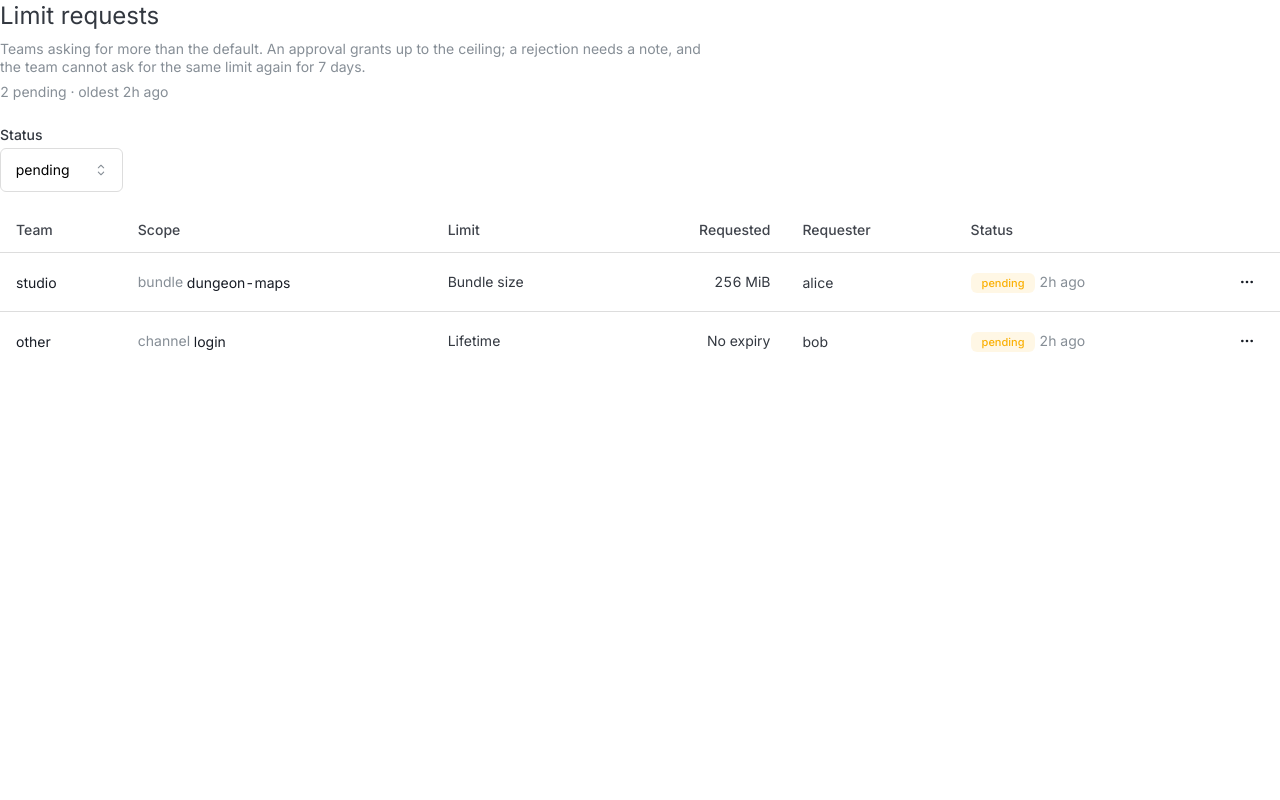
Test: LimitRequestsPage › approves with an adjusted value in another unit
Click the button named "Actions for Bundle size of dungeon-maps": (1247, 282) [1230, 265, 1264, 299]
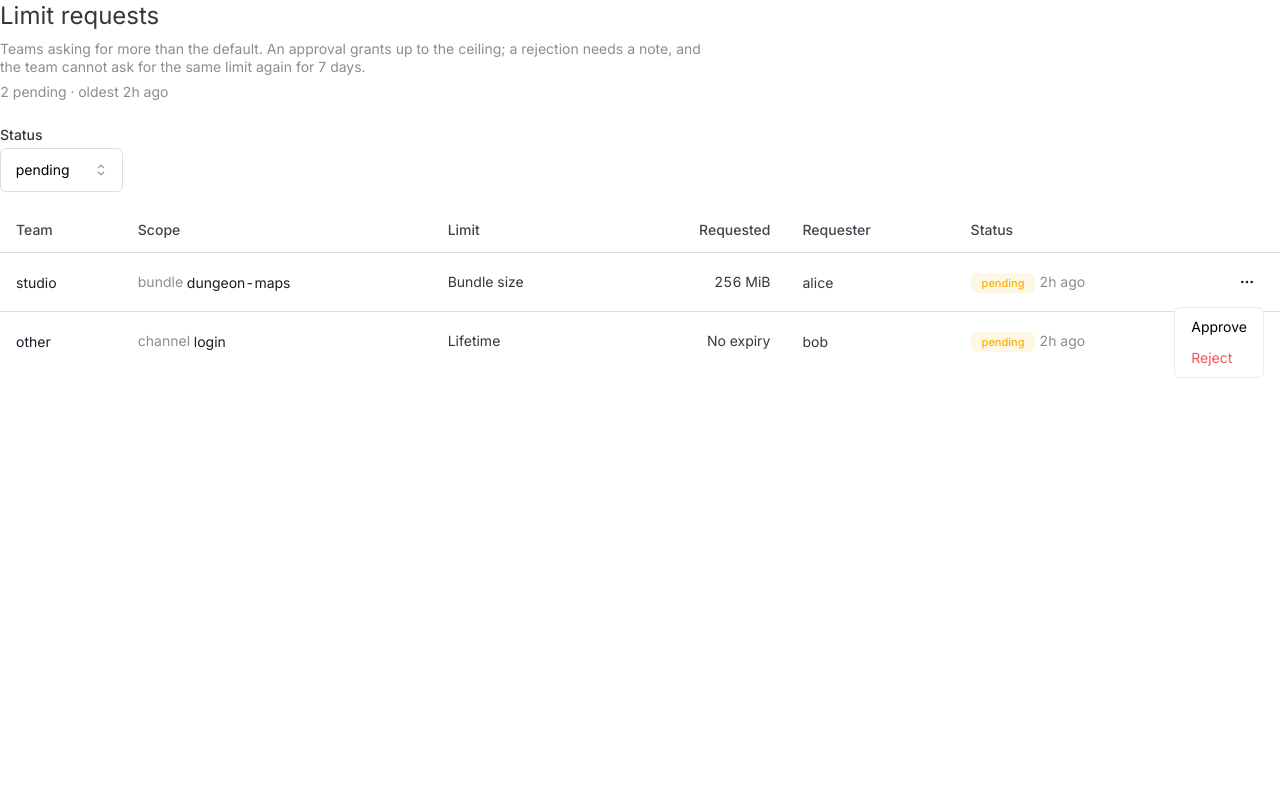
Click the menu item "Approve": (1219, 327) [1179, 312, 1259, 342]
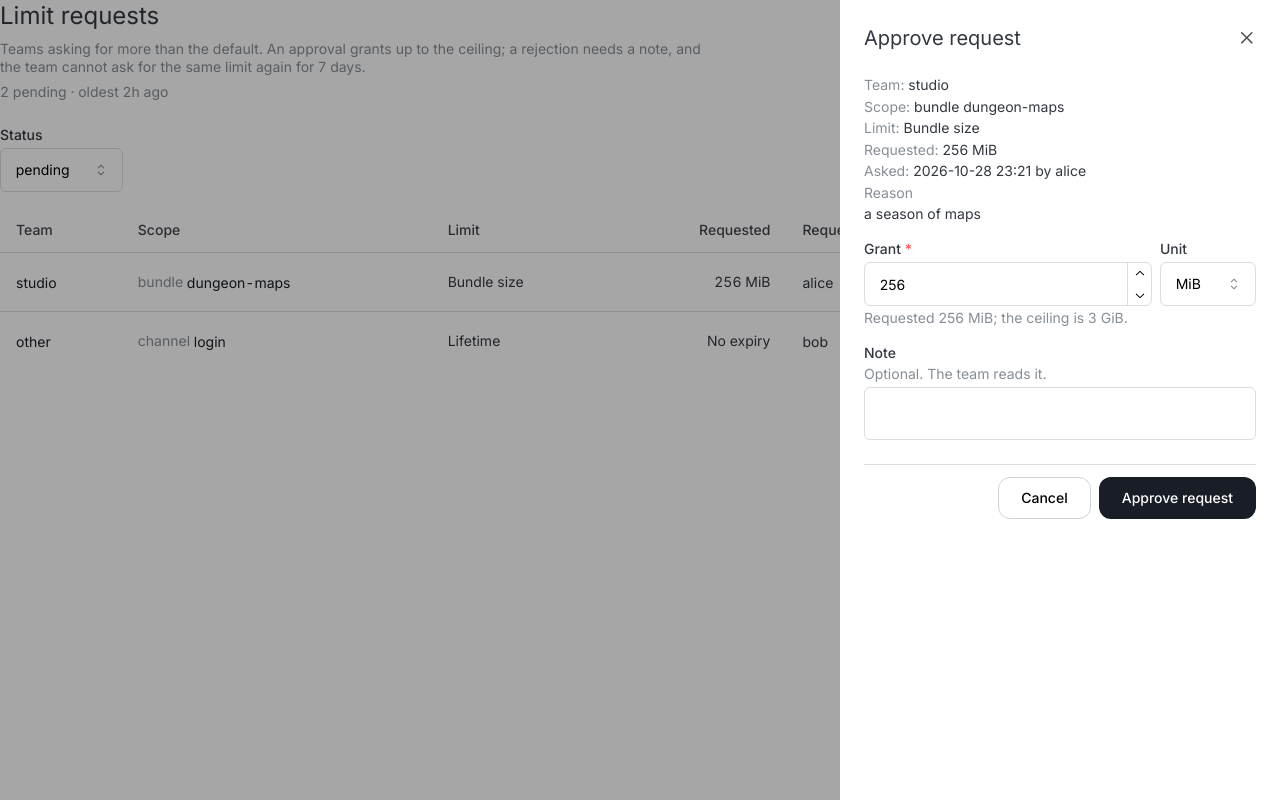
Expected: the text "a season of maps" is shown, [864, 205, 981, 222]
Expected: the field labelled "Grant *" holds "256"
Expected: the dropdown labelled "Unit" shows "MiB", [1160, 262, 1256, 306]
Replace the text in the field labelled "Grant *" with "128": (1008, 284) [864, 262, 1152, 306]
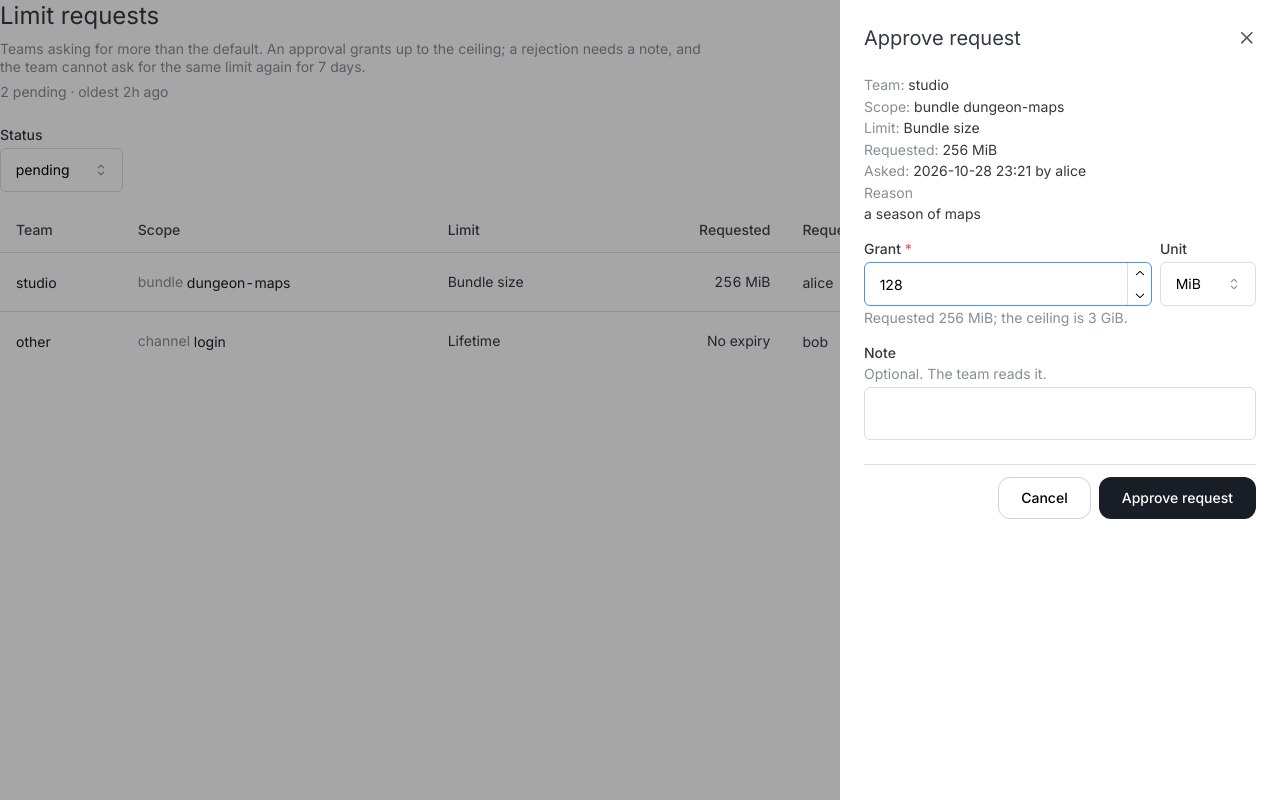
In the text box labelled "Note": (1060, 414) [864, 387, 1256, 440], type "half for now"
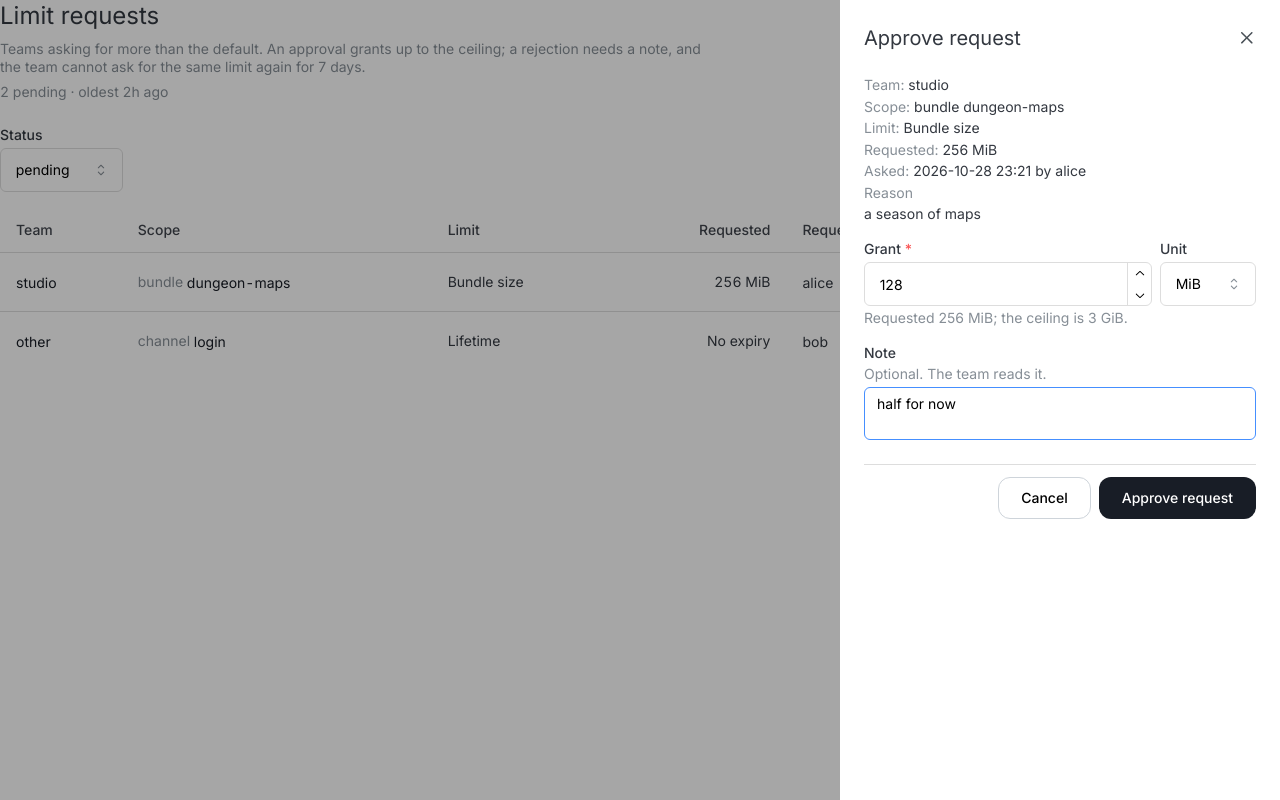
Click the button "Approve request": (1177, 498) [1099, 477, 1256, 519]
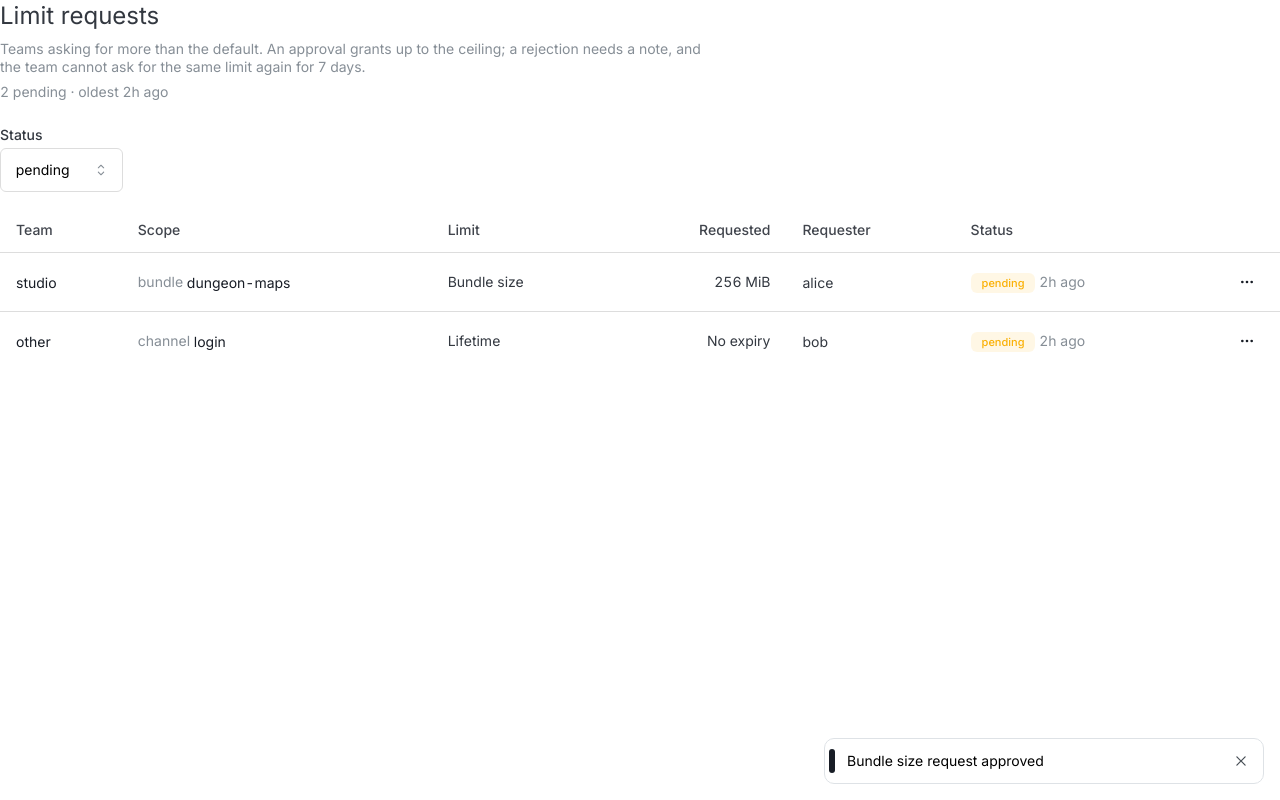
Expected: the dialog is gone
